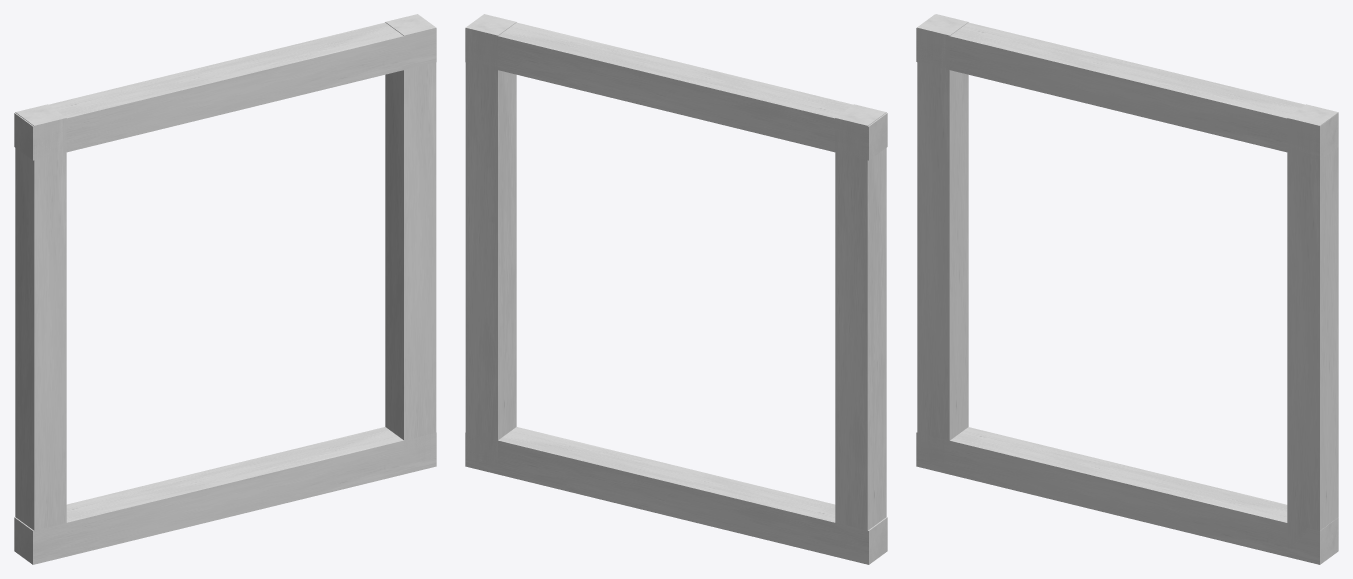
Rendered from VentanaEstructuraFija.obj.
3 views of the same model, side by side, from view 1: azimuth 30°, elevation 25°; view 2: azimuth 150°, elevation 25°; view 3: azimuth 330°, elevation 25° (orthographic).
Parts seen in each view (by area): view 1: pCube106; view 2: pCube106; view 3: pCube106.
Part boxes in pixels (<box>): pCube106: <box>14,14,436,564</box>; pCube106: <box>465,14,887,564</box>; pCube106: <box>916,14,1338,564</box>.
Size of the model in its own units: 7.06 by 7.34 by 0.5676.
